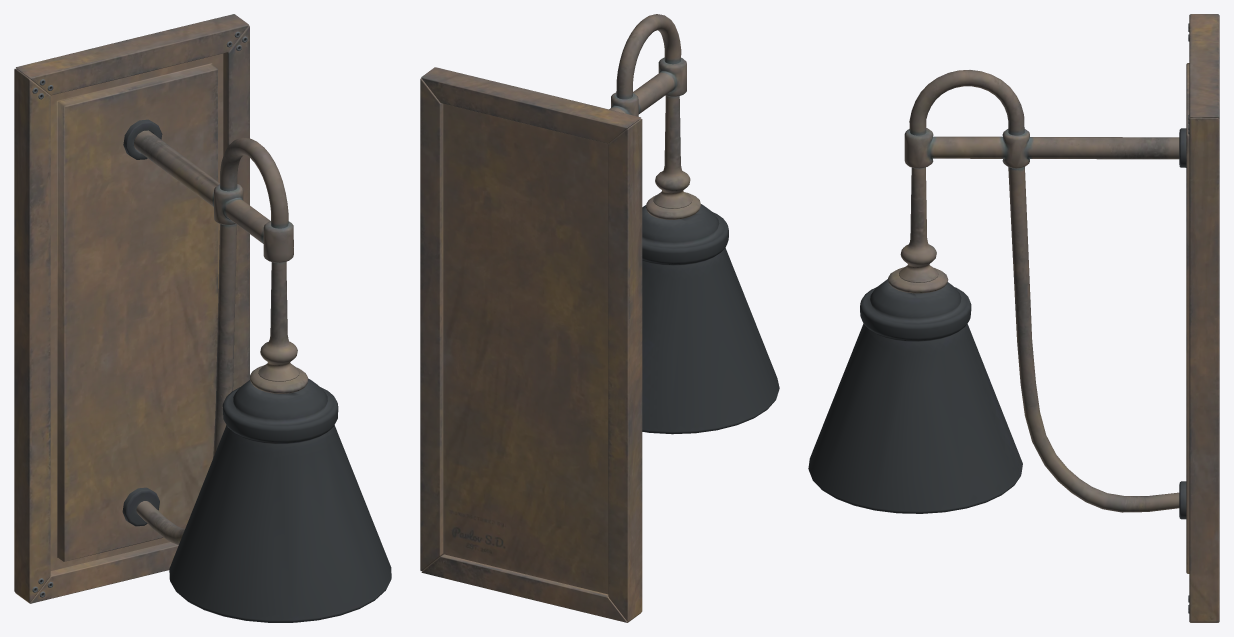
Rendered from industrial-wall-sconce.glb.
3 views of the same model, side by side, from view 1: azimuth 30°, elevation 25°; view 2: azimuth 150°, elevation 25°; view 3: azimuth 270°, elevation 25° (orthographic). The views are drawn at different scales.
Parts seen in each view (by area): view 1: industrial_wall_sconce; view 2: industrial_wall_sconce; view 3: industrial_wall_sconce.
Part boxes in pixels (x1,y1,x2,y2): industrial_wall_sconce: (14,14,391,622); industrial_wall_sconce: (420,14,779,622); industrial_wall_sconce: (808,14,1219,622).
Bounding box in the file's own units: 0.1503 × 0.3418 × 0.2516.
Materials: 2 (2 with a texture image).
